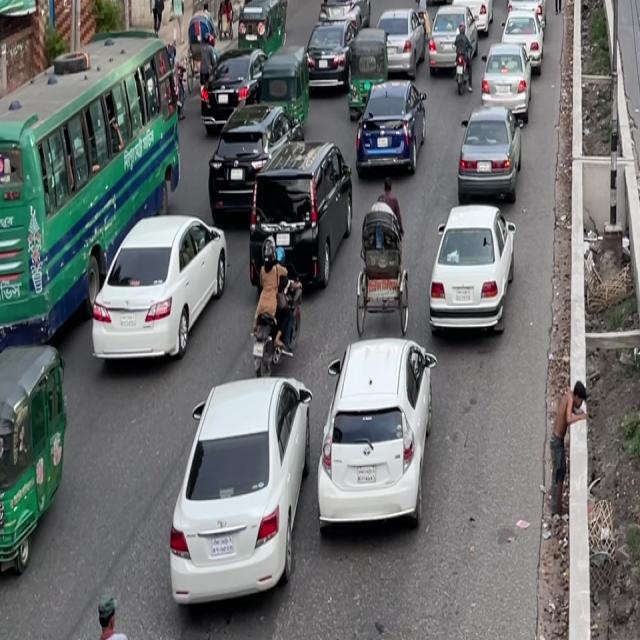car: (153, 361, 323, 620), (307, 320, 445, 547), (79, 194, 235, 386), (206, 113, 353, 299), (422, 190, 521, 350), (353, 74, 426, 187), (453, 95, 523, 211), (479, 36, 536, 124), (300, 14, 356, 94), (423, 4, 469, 84), (376, 0, 423, 78), (500, 0, 544, 71), (316, 0, 368, 42), (451, 0, 493, 38), (506, 0, 545, 11)
motorbike: (246, 256, 307, 386)
rickshaw: (0, 329, 79, 594), (258, 48, 312, 127), (347, 23, 388, 119), (423, 0, 458, 11)
